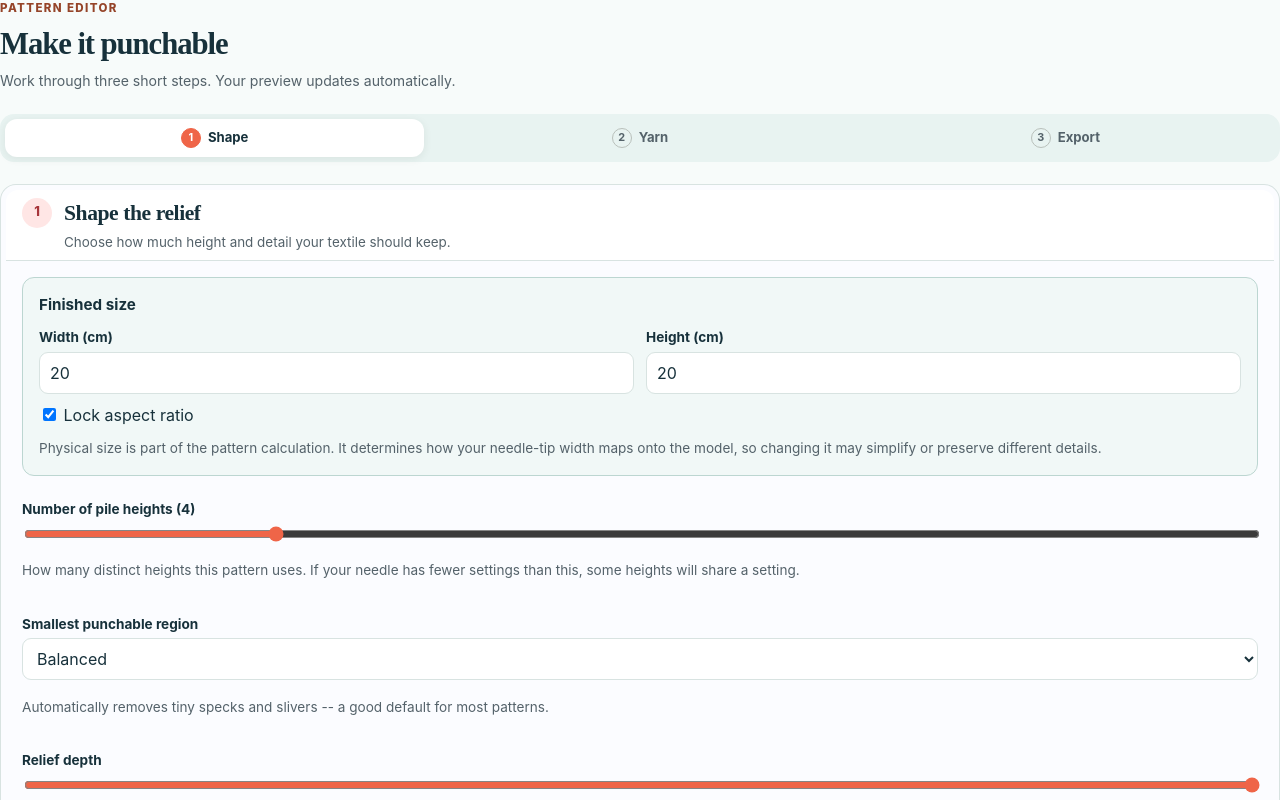
Test: Workspace › shows one setup step at a time instead of every control group at once
Check: the heading "Shape the relief" is shown, box [64,201,201,225]
Check: the heading "Choose your yarn" is not shown
Click the button "2 Yarn" at (640,138), box [430,119,850,157]
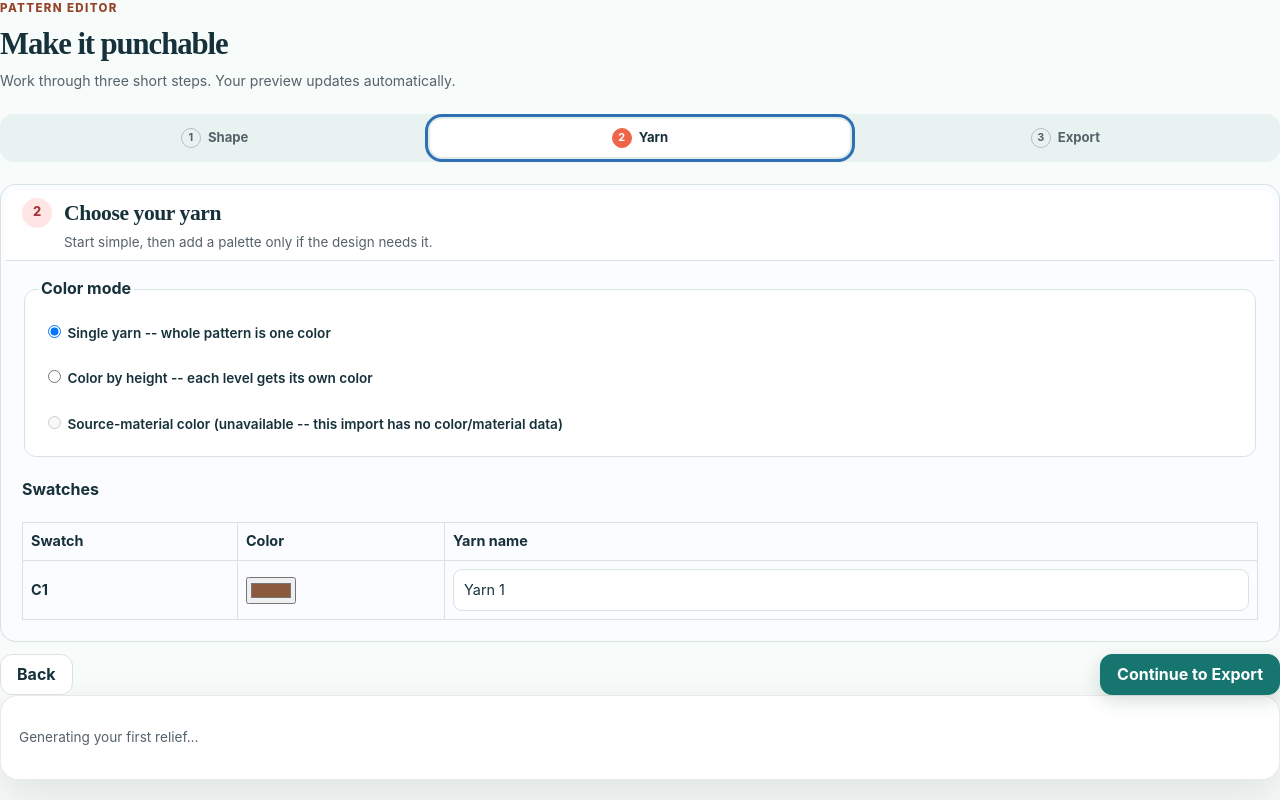
Check: the heading "Choose your yarn" is shown, box [64,201,221,225]
Check: the heading "Shape the relief" is gone
